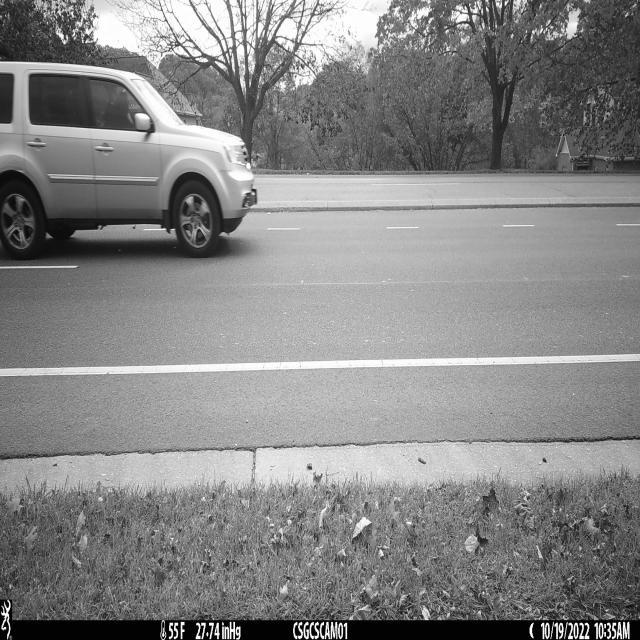SUV: (0, 61, 259, 259)
